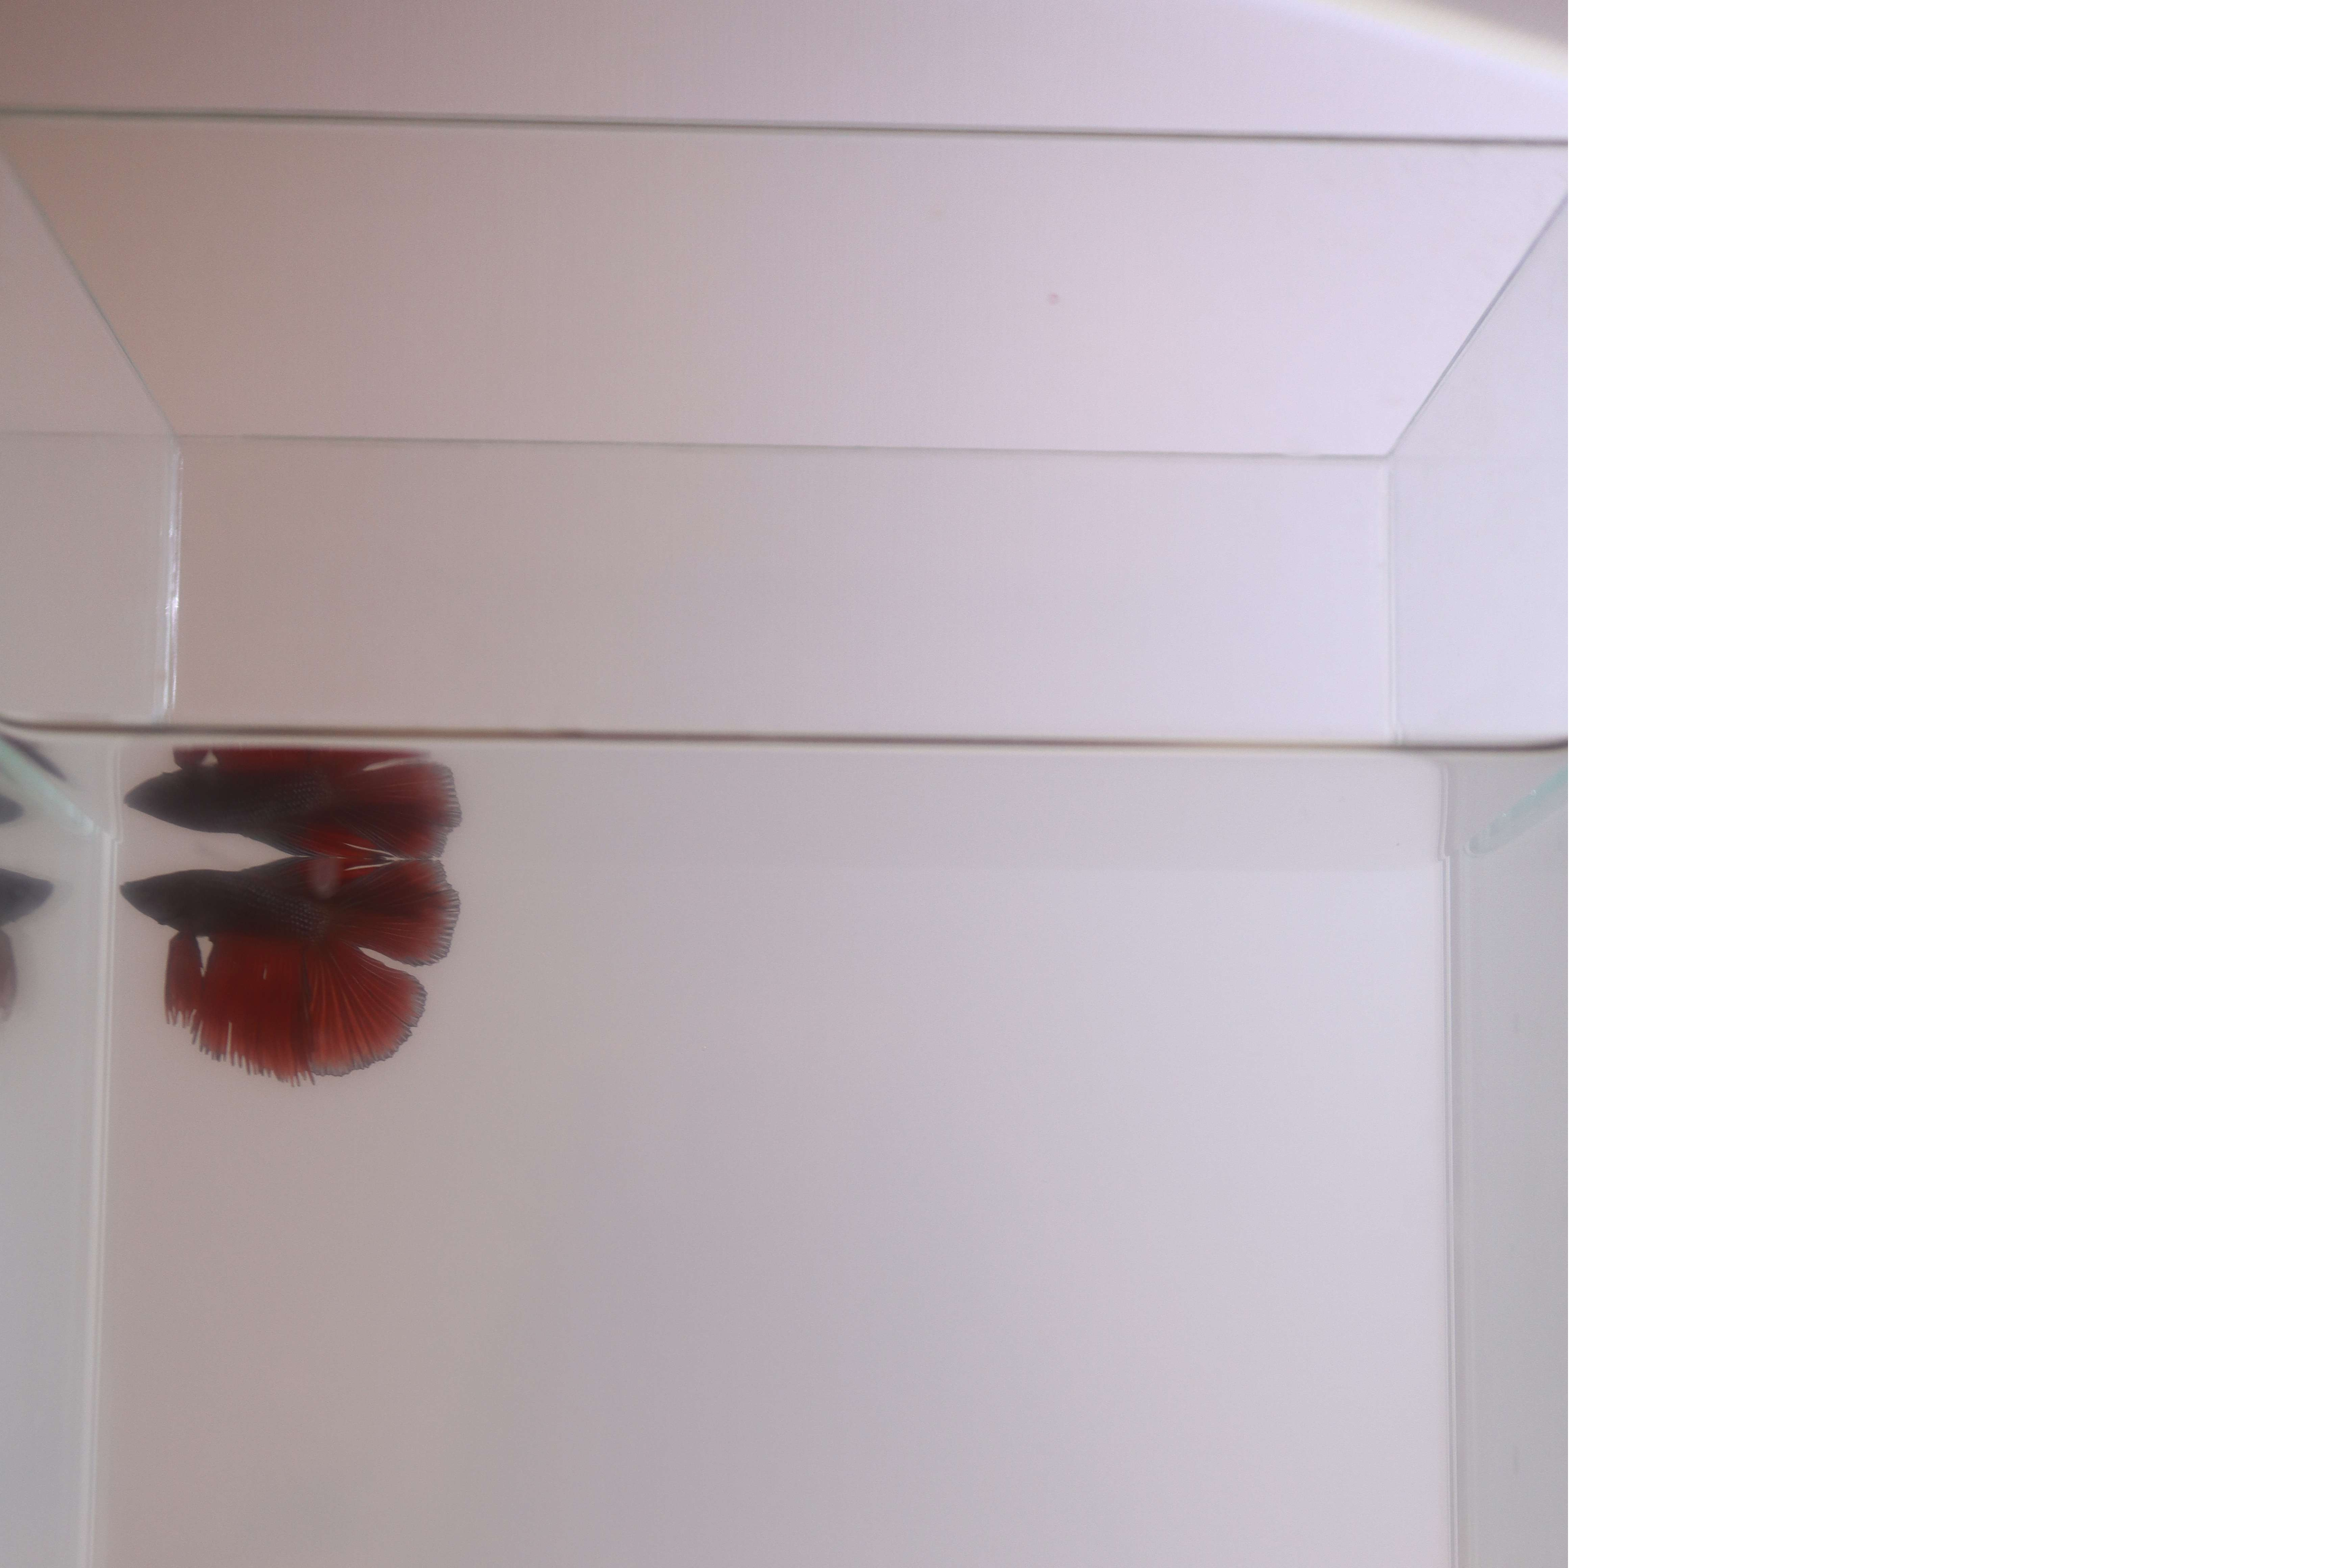fish: (109, 842, 490, 1085)
